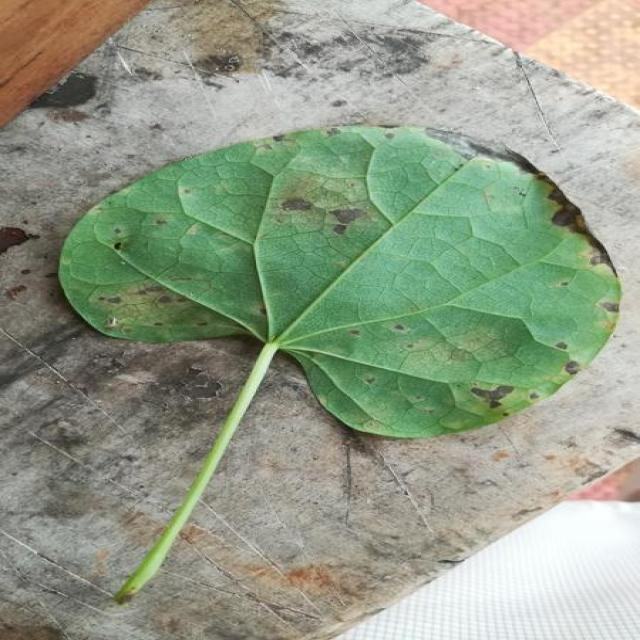Amruthaballi: (60, 126, 618, 438), (418, 296, 617, 363)
defectedAmruthaballi: (285, 214, 583, 436)
disease in leaf: (60, 132, 383, 342)
